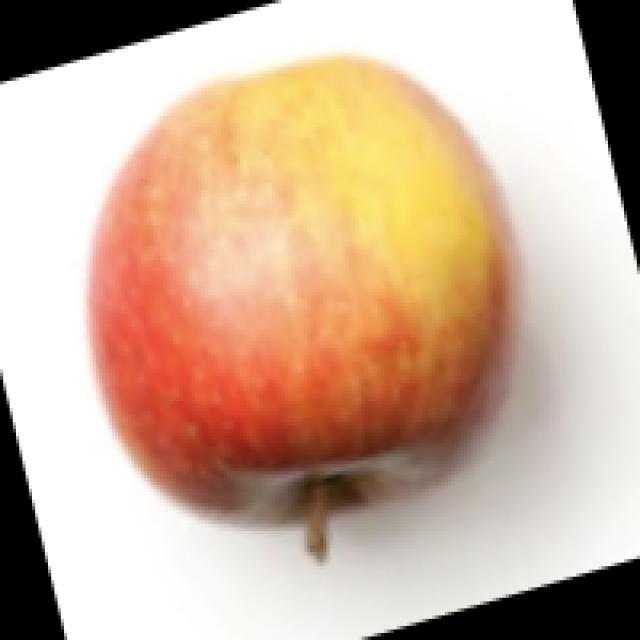Apple: (86, 53, 517, 561)
